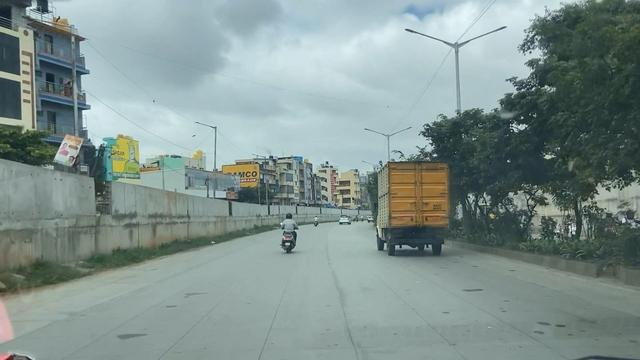HMV: (364, 159, 454, 270)
